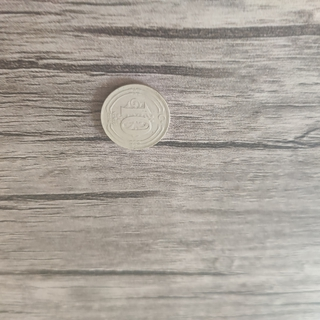10KURUS: (97, 81, 172, 152)
